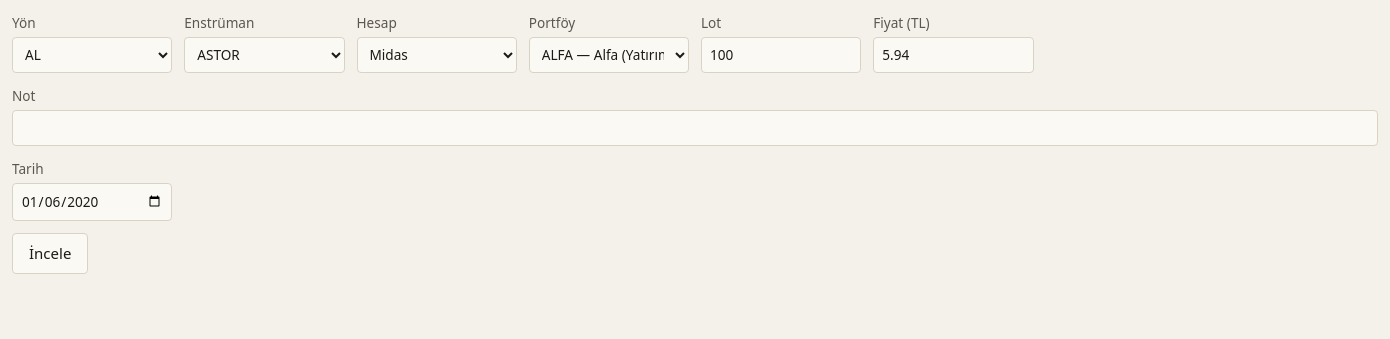
Test: IslemFormu edit mode › rejects an AL edit that would oversell a later SAT
Replace the text in the number field labelled "Lot" with "10" at {"x": 781, "y": 55}, box x1=701 y1=37 x2=861 y2=73
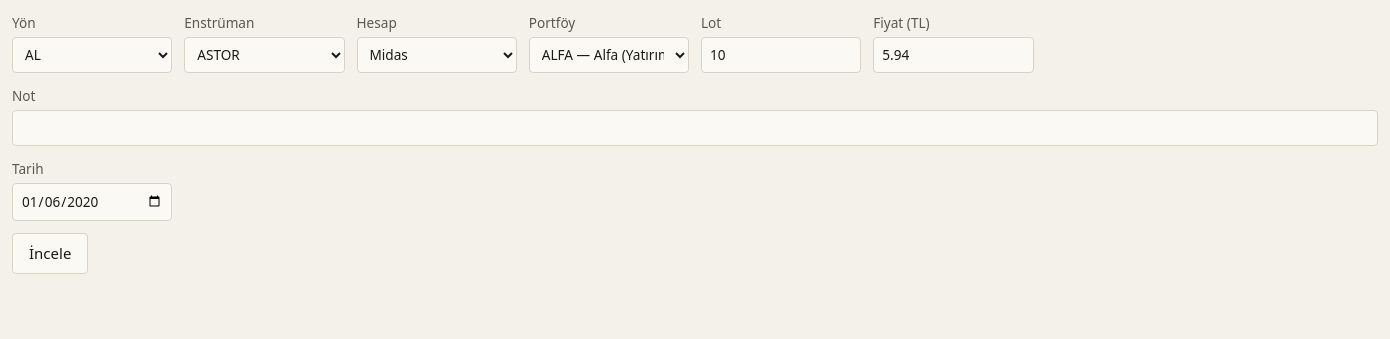
Click the button "İncele" at {"x": 50, "y": 253}, box x1=12 y1=233 x2=88 y2=274
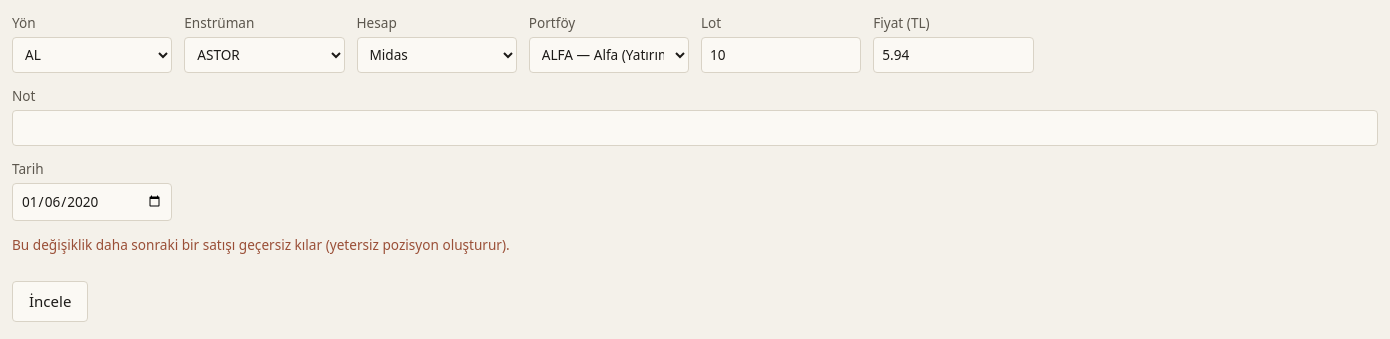
Expected: the text "daha sonraki bir satışı geçersiz kılar" is shown, x1=12 y1=235 x2=510 y2=254
